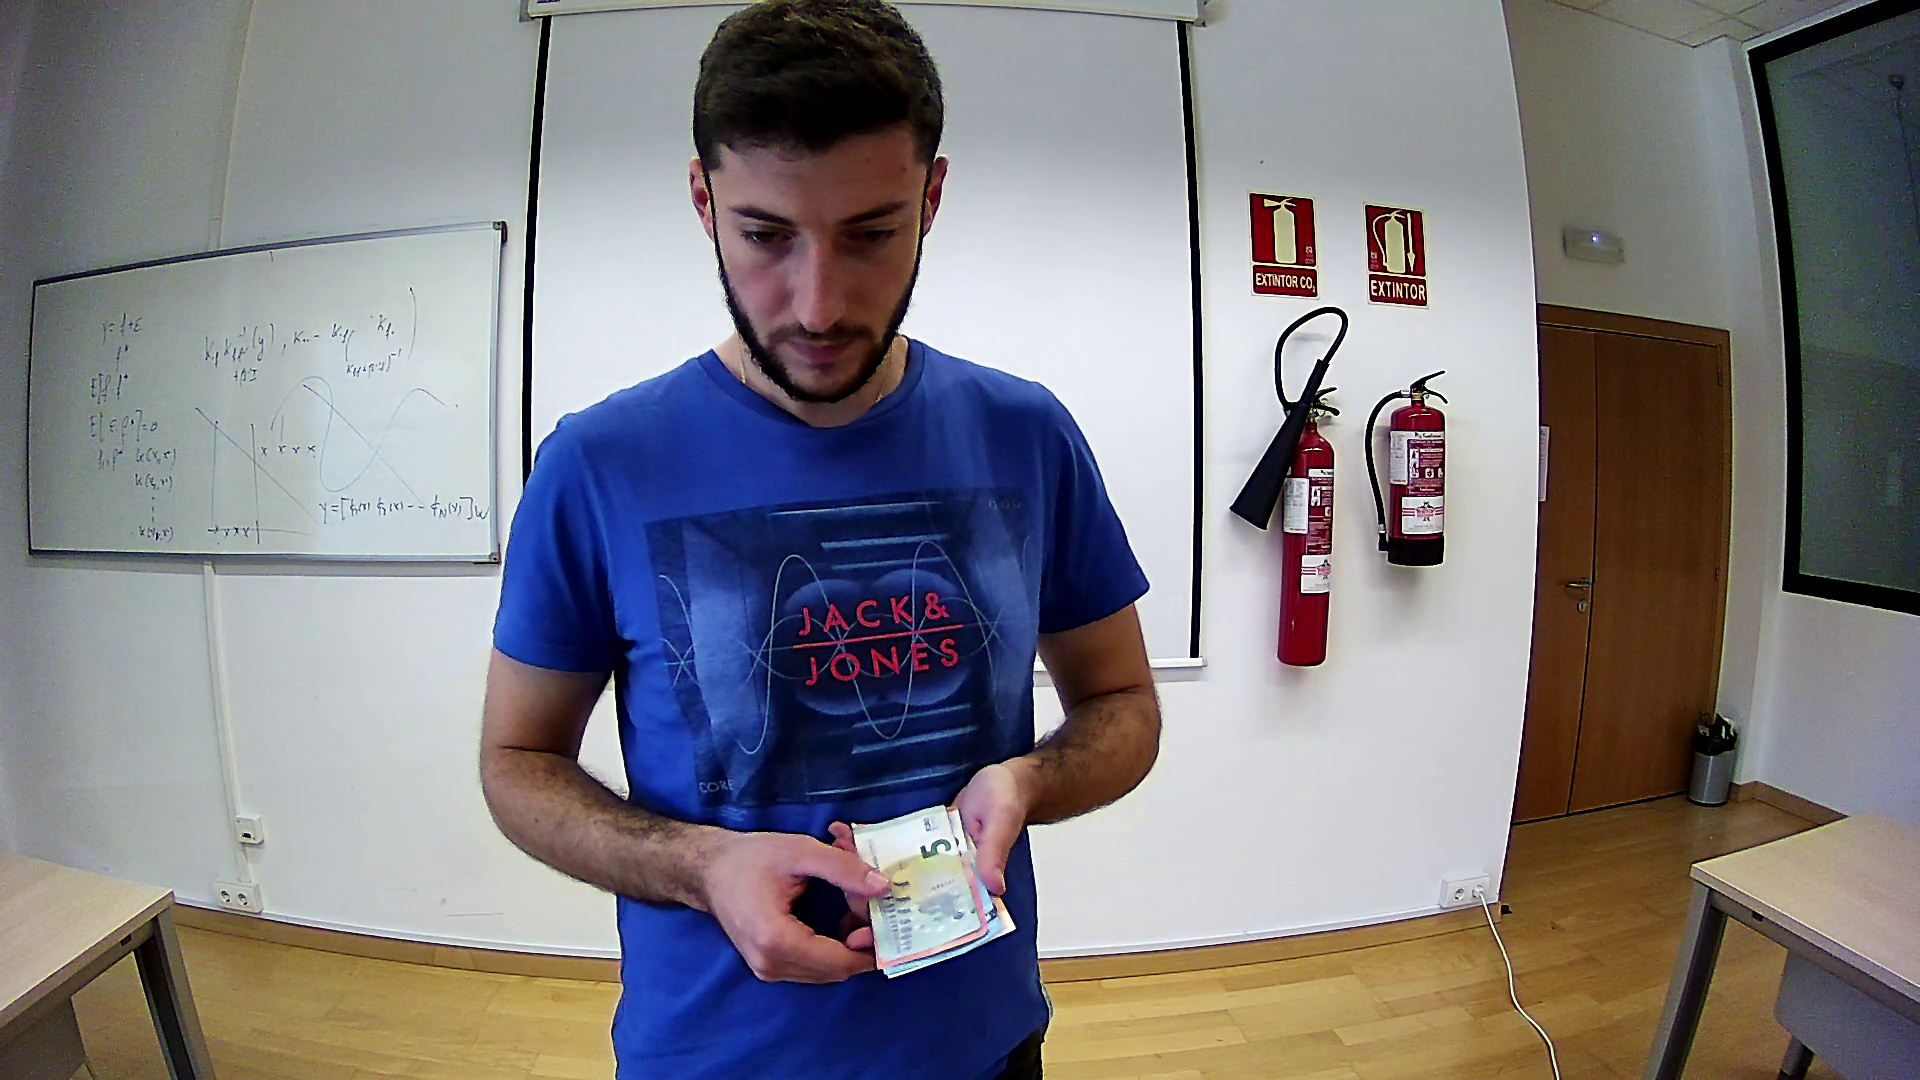billete: (851, 803, 1017, 980)
